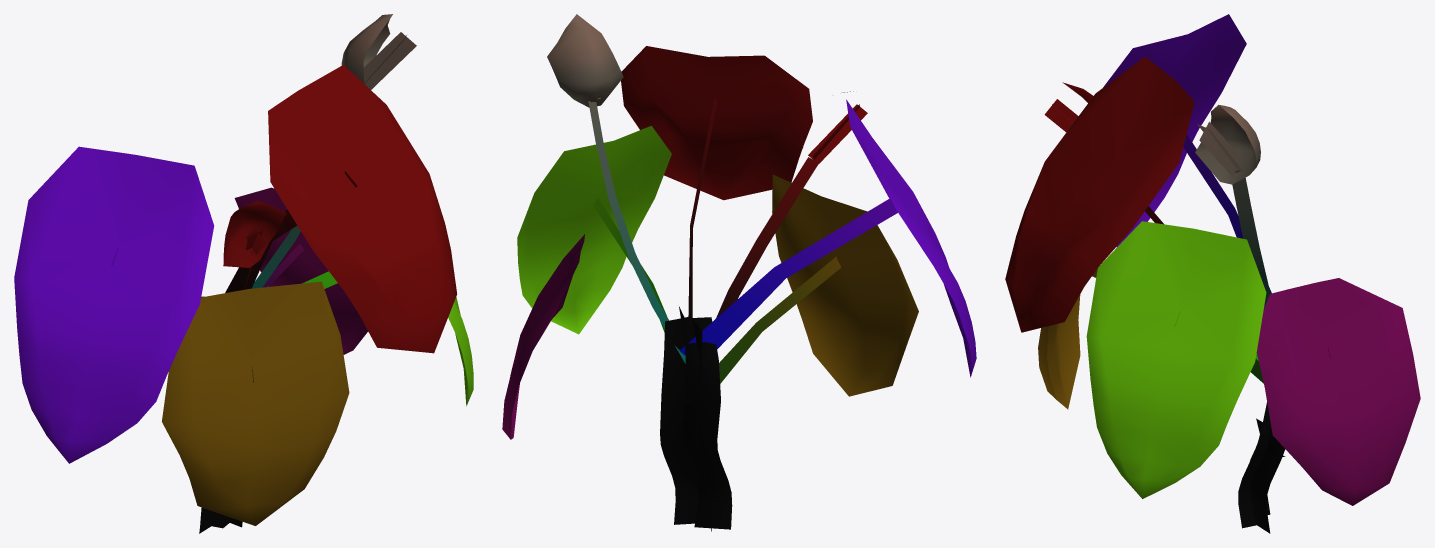
The model's file is Anthurium_var1.fbx.
3 renders of one model, left to right at view 1: azimuth 30°, elevation 25°; view 2: azimuth 150°, elevation 25°; view 3: azimuth 270°, elevation 25°, orthographic. The views are drawn at different scales.
Parts seen in each view (by area): view 1: Anthurium_var1_LOD0; view 2: Anthurium_var1_LOD0; view 3: Anthurium_var1_LOD0.
Boxes of the visible parts, x1,y1,x2,y2 form: Anthurium_var1_LOD0: (14, 14, 473, 533); Anthurium_var1_LOD0: (502, 14, 976, 531); Anthurium_var1_LOD0: (1005, 14, 1420, 533).
Size of what is drawn, in the model's own units: 6.29 by 6.56 by 5.01.
